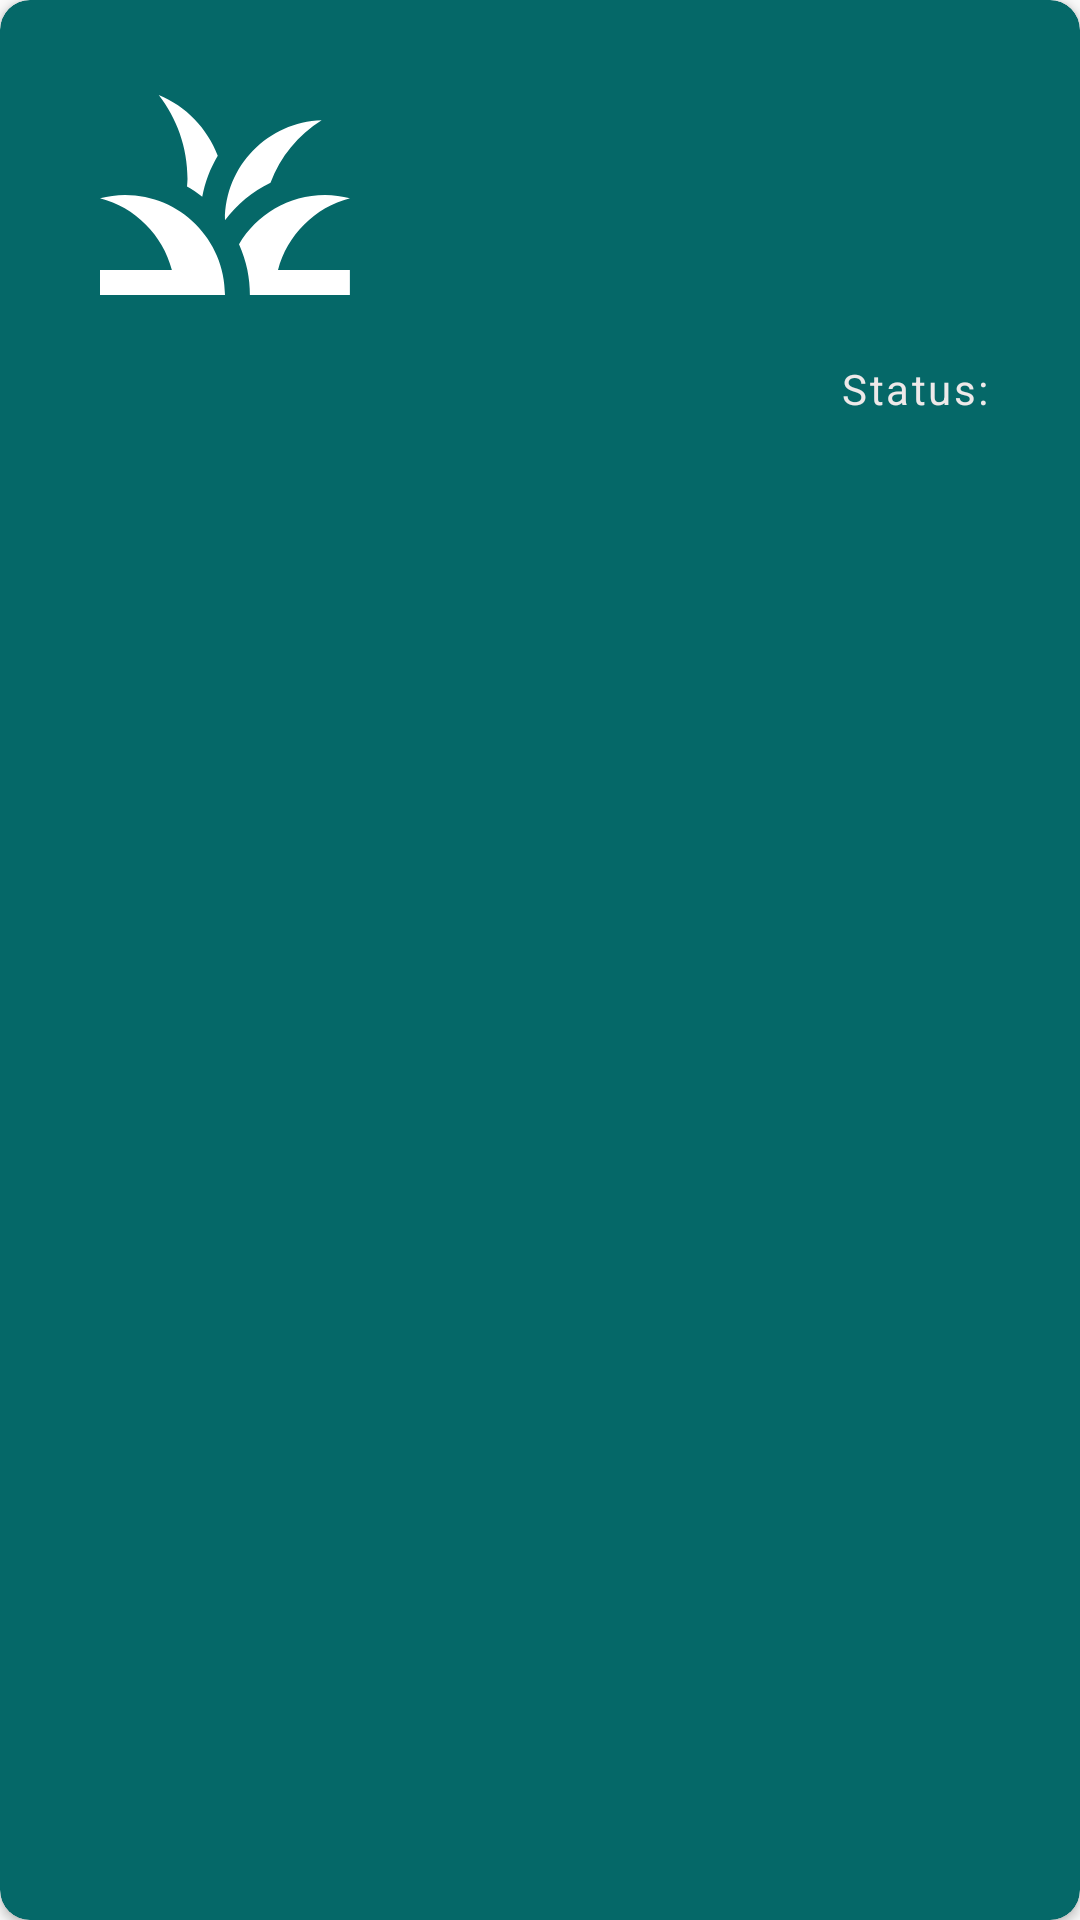

Screen size 1080 × 1920. Icon name, then its box in pixels as (x1, y1, x2, y2):
plant: (100, 95, 350, 295)
